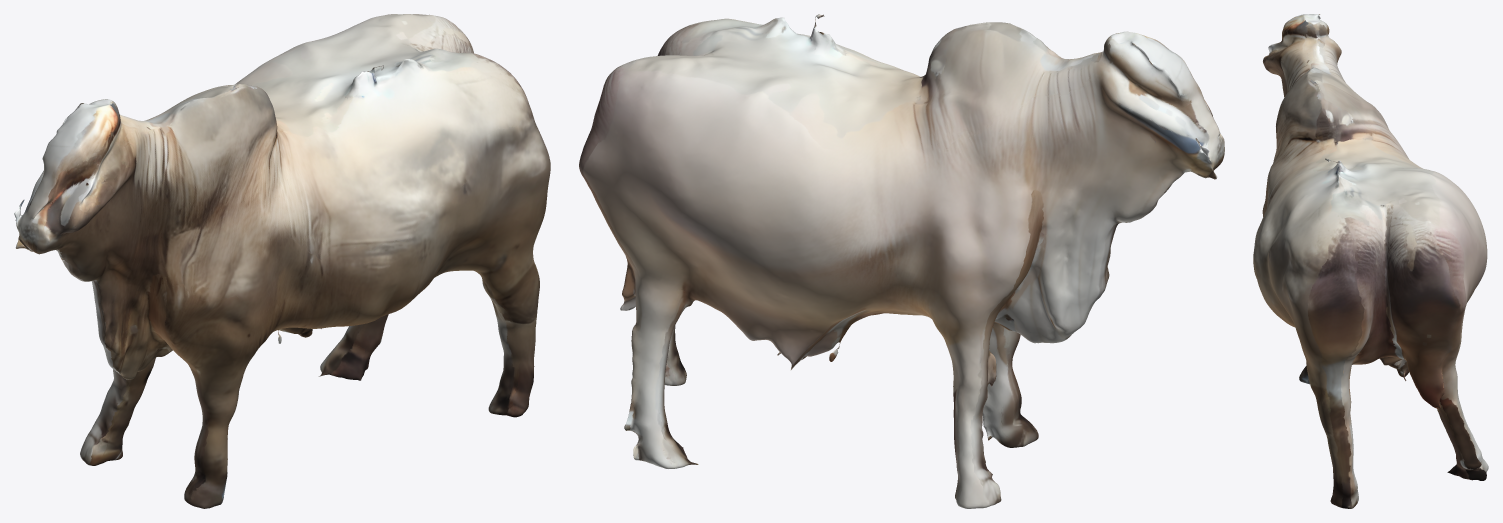
File: adulto.glb
3 views of the same model, side by side, from view 1: azimuth 30°, elevation 25°; view 2: azimuth 150°, elevation 25°; view 3: azimuth 270°, elevation 25° (orthographic). The views are drawn at different scales.
Visible parts, largest first — view 1: mesh; view 2: mesh; view 3: mesh.
Boxes of the visible parts, bbox=[...] form: mesh: bbox=[14, 14, 550, 508]; mesh: bbox=[579, 14, 1224, 508]; mesh: bbox=[1253, 14, 1488, 508].
Bounding box in the file's own units: 1.61 × 1.23 × 0.8022.
Materials: 1 (1 with a texture image).
